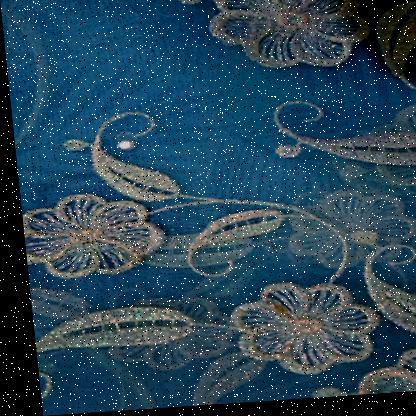spot: (253, 295, 296, 332), (117, 243, 149, 273)
